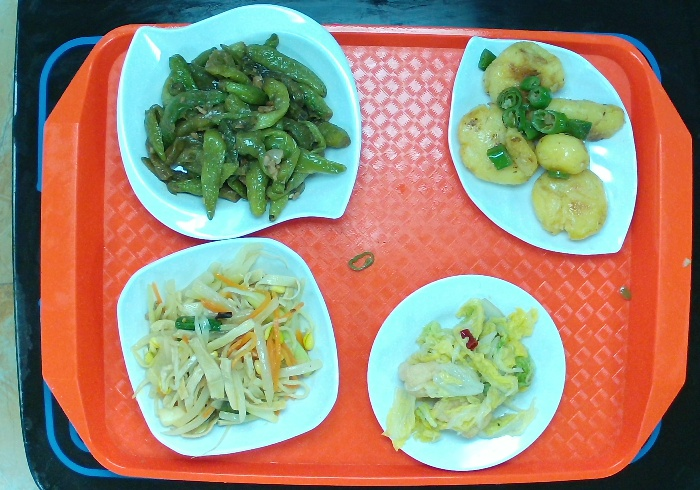RJxy-Da_Du_Pan: (445, 33, 640, 257)
RJxy-Shuang_Jiao_Pan: (113, 2, 364, 241)
RJxy-Si_Fang_Wan: (114, 236, 341, 458)
RJxy-Xiao_Yuan_Die: (364, 272, 569, 473)
